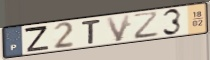2: (52, 21, 76, 51)
3: (161, 8, 187, 37)
T: (80, 18, 103, 45)
V: (104, 13, 133, 43)
Z: (131, 10, 161, 41), (23, 25, 51, 53)
